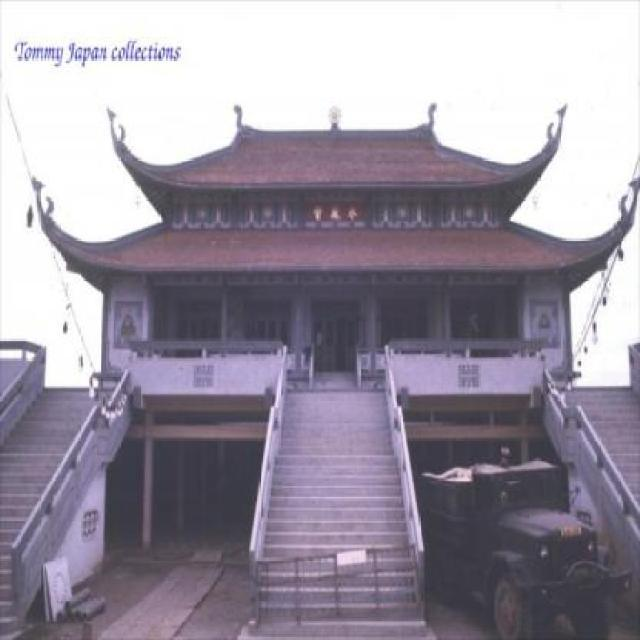stair: (249, 384, 428, 636), (0, 384, 120, 638), (548, 384, 638, 540)
